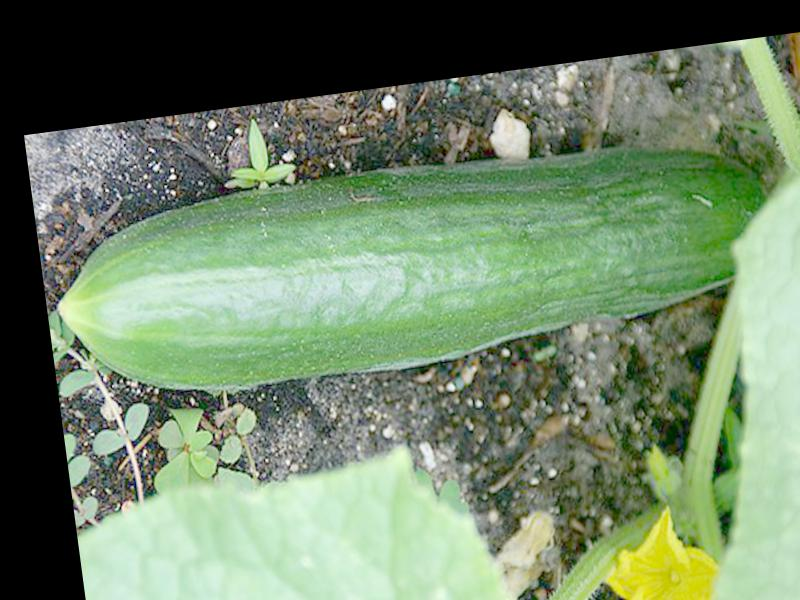Cucumber: (43, 119, 783, 412)
